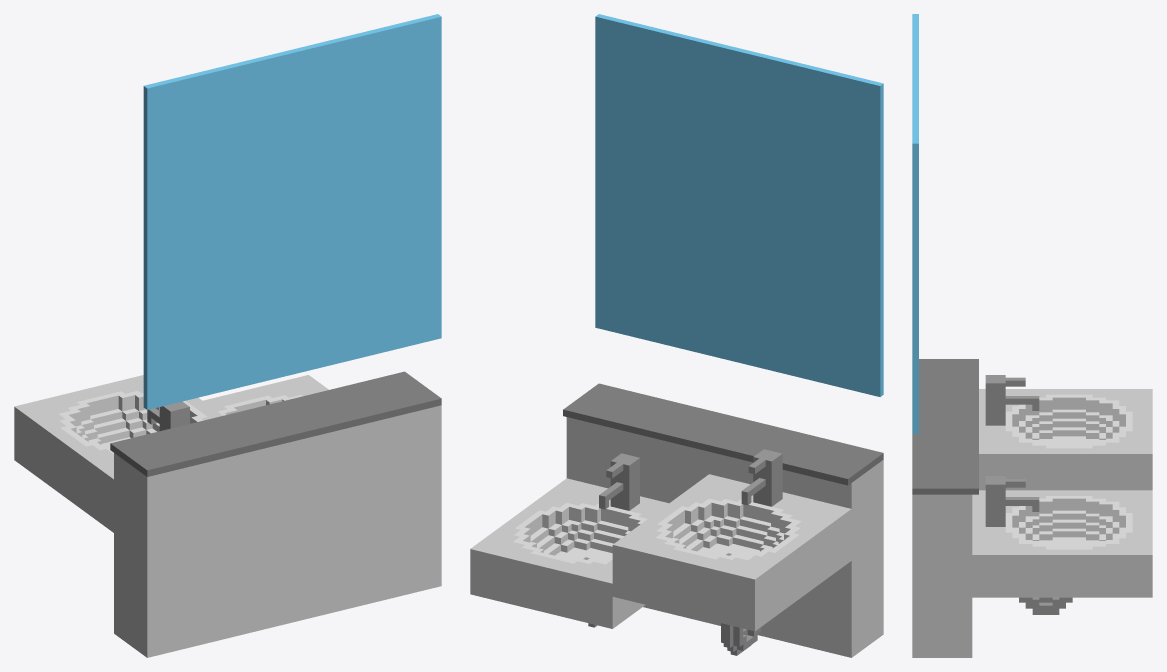
Rendered from Toilet2.fbx.
3 views of the same model, side by side, from view 1: azimuth 30°, elevation 25°; view 2: azimuth 150°, elevation 25°; view 3: azimuth 270°, elevation 25° (orthographic). The views are drawn at different scales.
Parts seen in each view (by area): view 1: Toilet2.001, Toilet2.002, Toilet2, Toilet2.003; view 2: Toilet2.001, Toilet2.002, Toilet2, Toilet2.003; view 3: Toilet2.003, Toilet2.001, Toilet2, Toilet2.002.
Part boxes in pixels (x1,y1,x2,y2): Toilet2.001: (14,375,294,657); Toilet2.002: (143,50,294,409); Toilet2: (291,14,441,373); Toilet2.003: (203,371,441,621); Toilet2.001: (612,418,883,657); Toilet2.002: (737,49,883,396); Toilet2: (595,14,740,362); Toilet2.003: (470,383,740,628); Toilet2.003: (912,423,1152,657); Toilet2.001: (919,359,1152,490); Toilet2: (912,79,918,433); Toilet2.002: (912,14,918,78).
Bounding box in the file's own units: 4.6 × 8.5 × 3.6.
